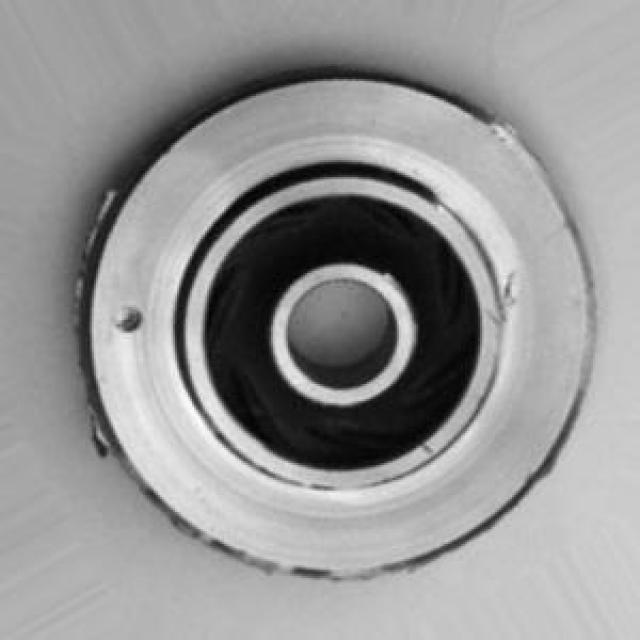Defect: (109, 294, 151, 339)
